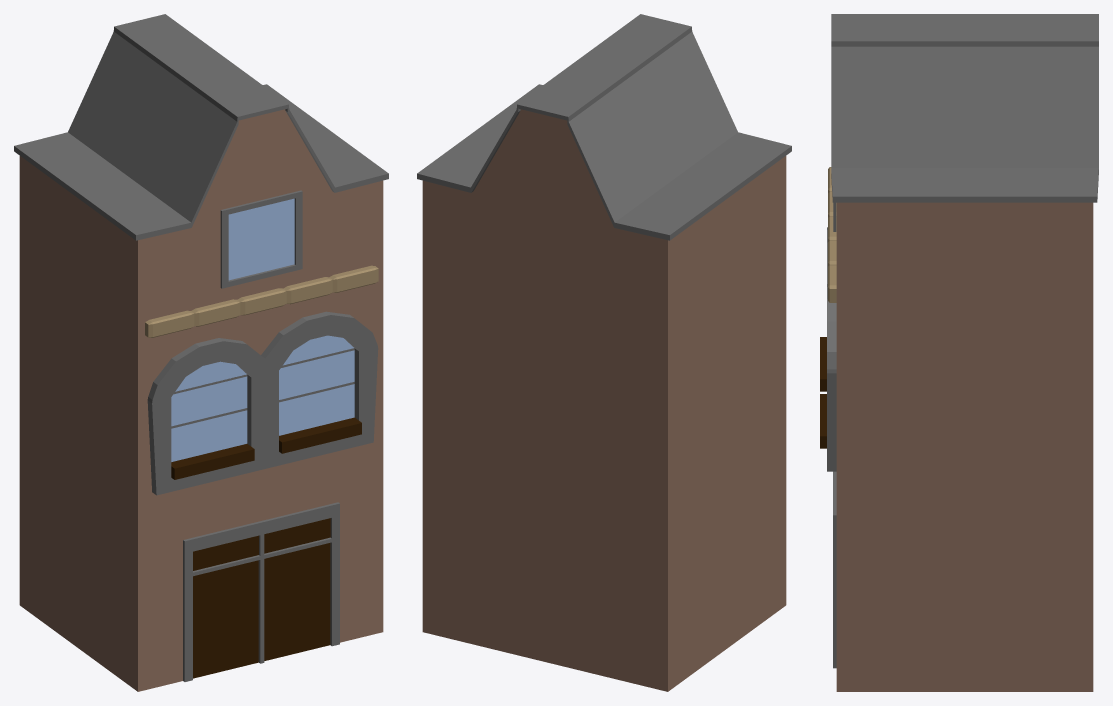
Rendered from House2Lvl3.fbx.
3 views of the same model, side by side, from view 1: azimuth 30°, elevation 25°; view 2: azimuth 150°, elevation 25°; view 3: azimuth 270°, elevation 25° (orthographic). The views are drawn at different scales.
Visible parts, largest first — view 1: House2Lvl3; view 2: House2Lvl3; view 3: House2Lvl3.
Boxes of the visible parts, x1=… form: House2Lvl3: x1=14, y1=14, x2=388, y2=691; House2Lvl3: x1=417, y1=14, x2=791, y2=691; House2Lvl3: x1=820, y1=14, x2=1098, y2=691.
Bounding box in the file's own units: 62.79 × 131 × 55.35.
